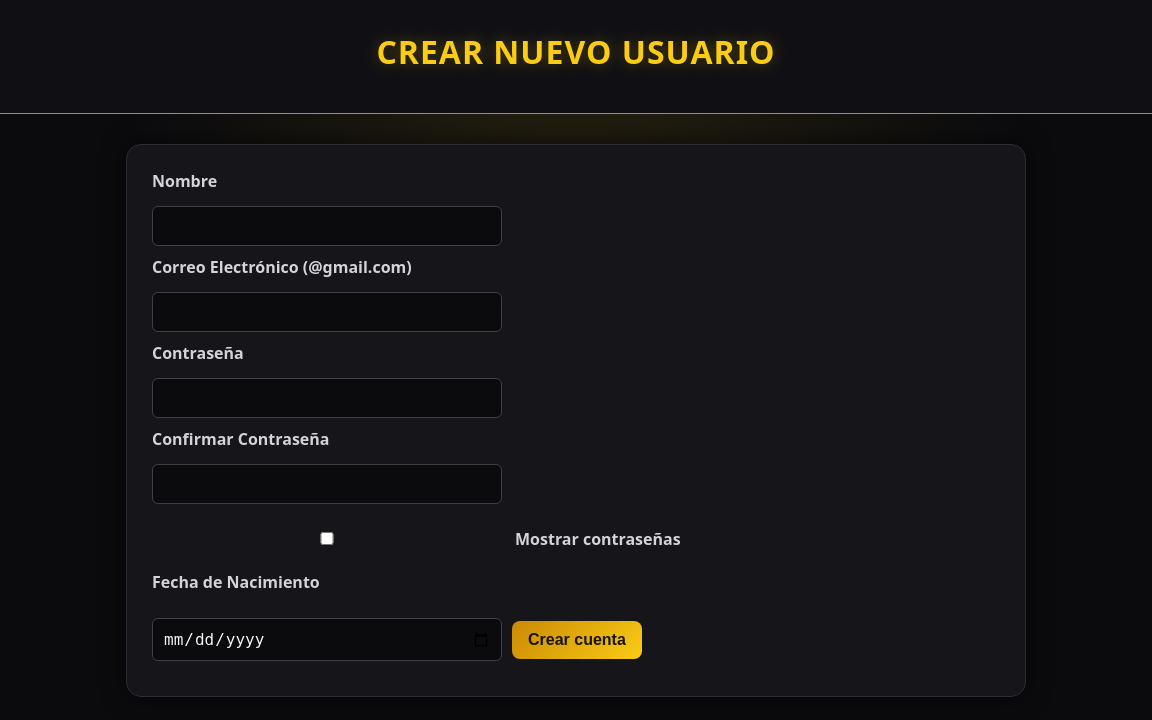
Test: Componente Registro › muestra error si las contraseñas no coinciden
Type "Juan" into the field labelled "Nombre" at (327, 226), box [152, 206, 502, 246]
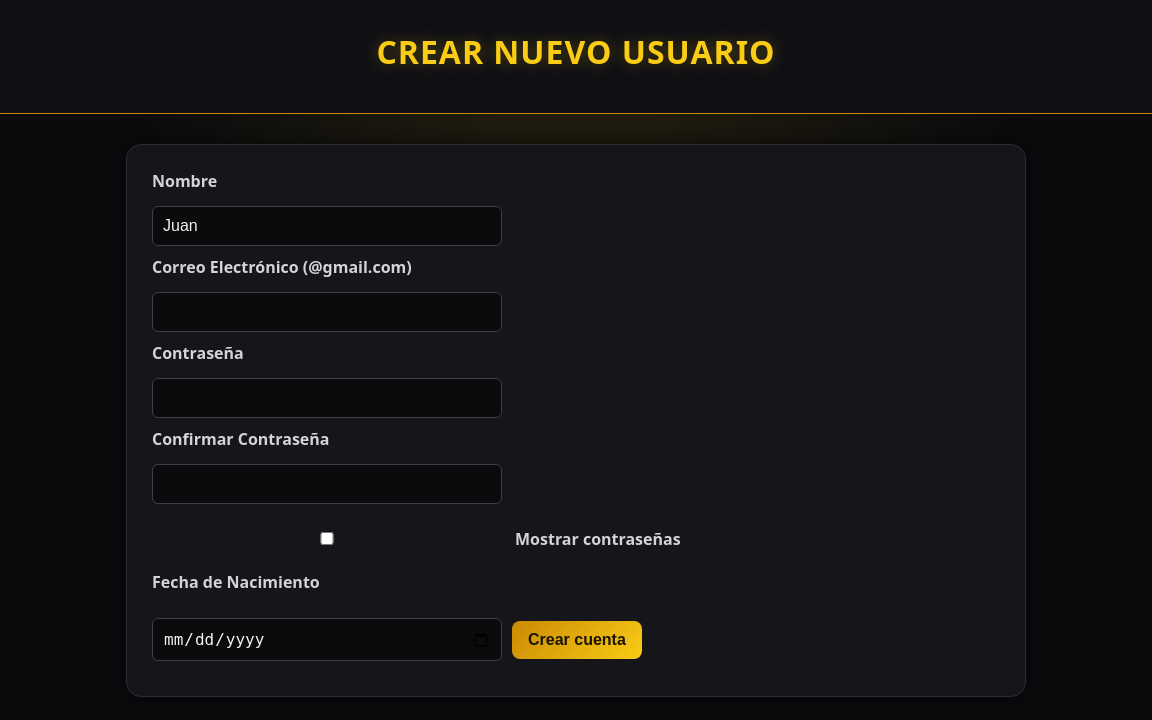
Type "12345678" into the password field labelled "Contraseña" at (327, 398), box [152, 378, 502, 418]
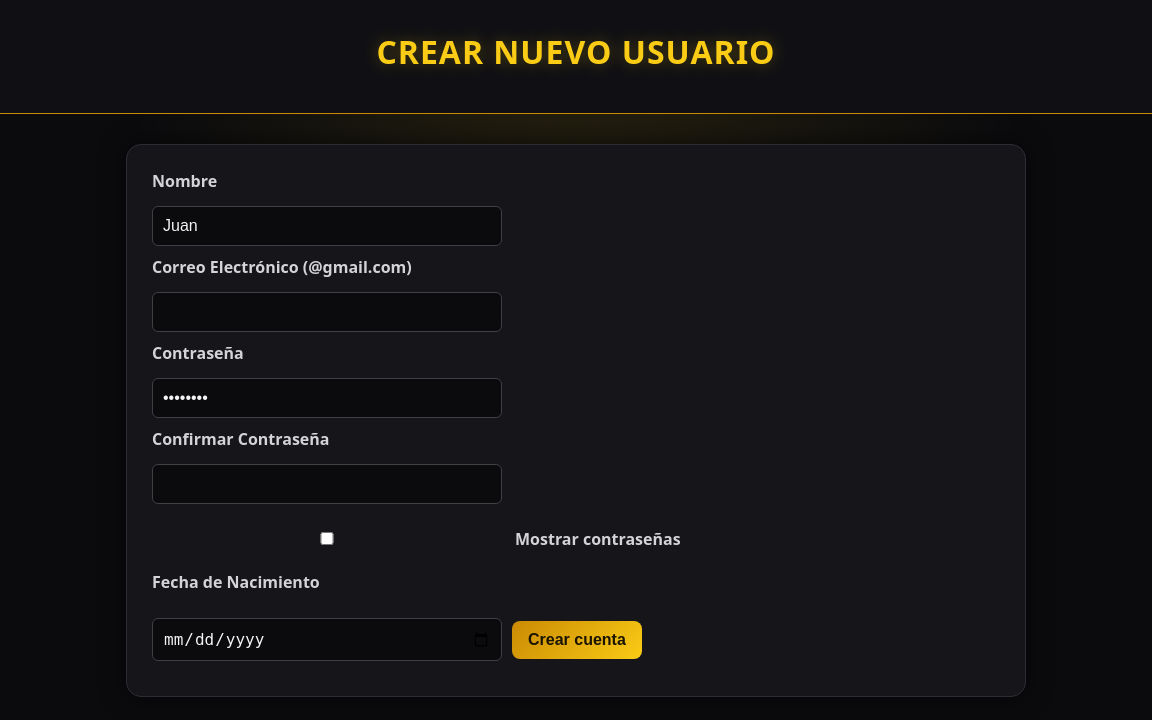
Type "87654321" into the password field labelled "Confirmar Contraseña" at (327, 484), box [152, 464, 502, 504]
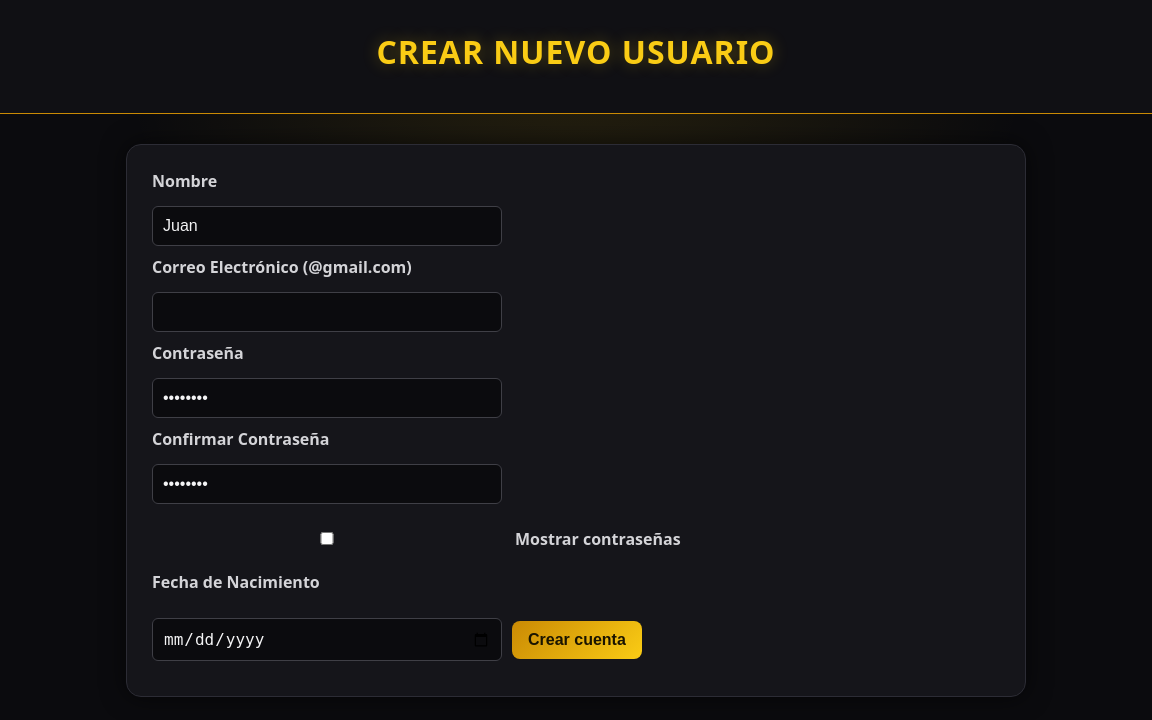
Click the button "Crear cuenta" at (577, 640), box [512, 621, 642, 659]
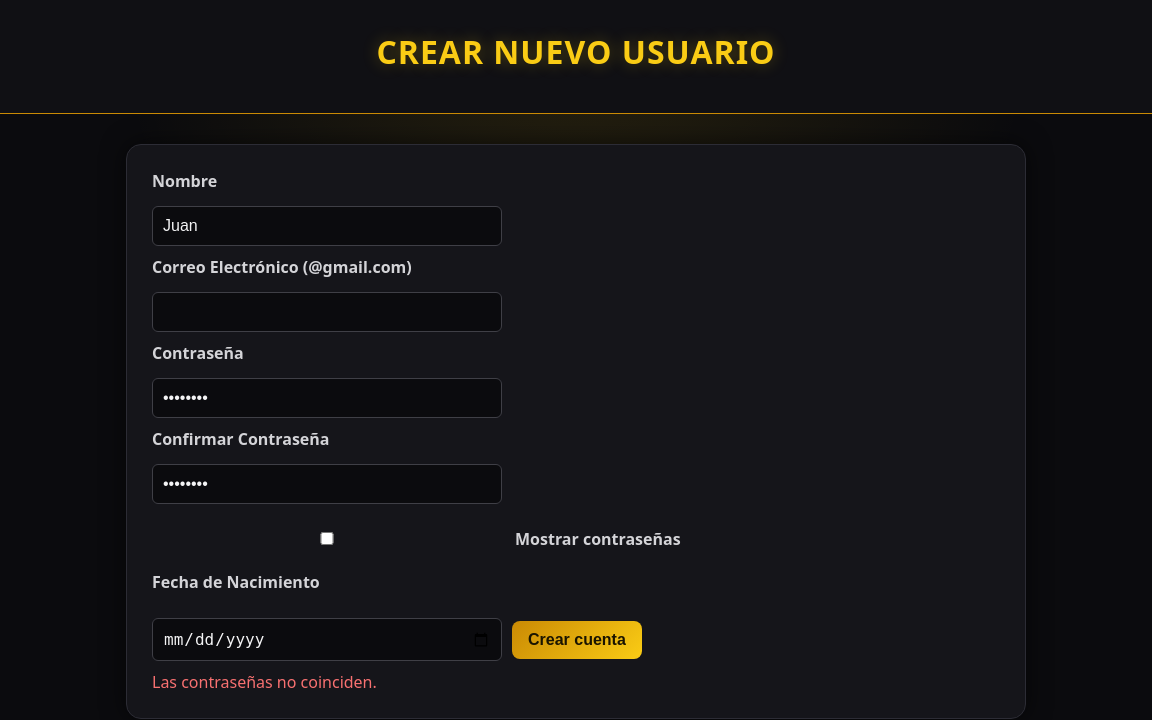
Now the text "Las contraseñas no coinciden." is shown, box [152, 671, 377, 693]
